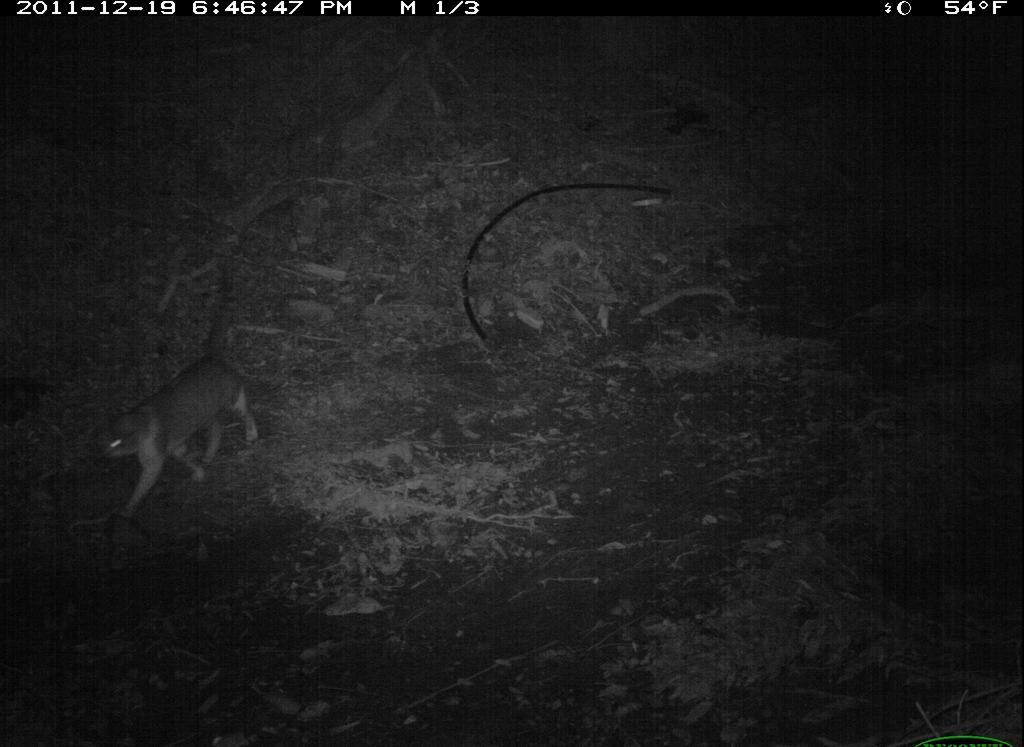cat: (93, 263, 267, 530)
